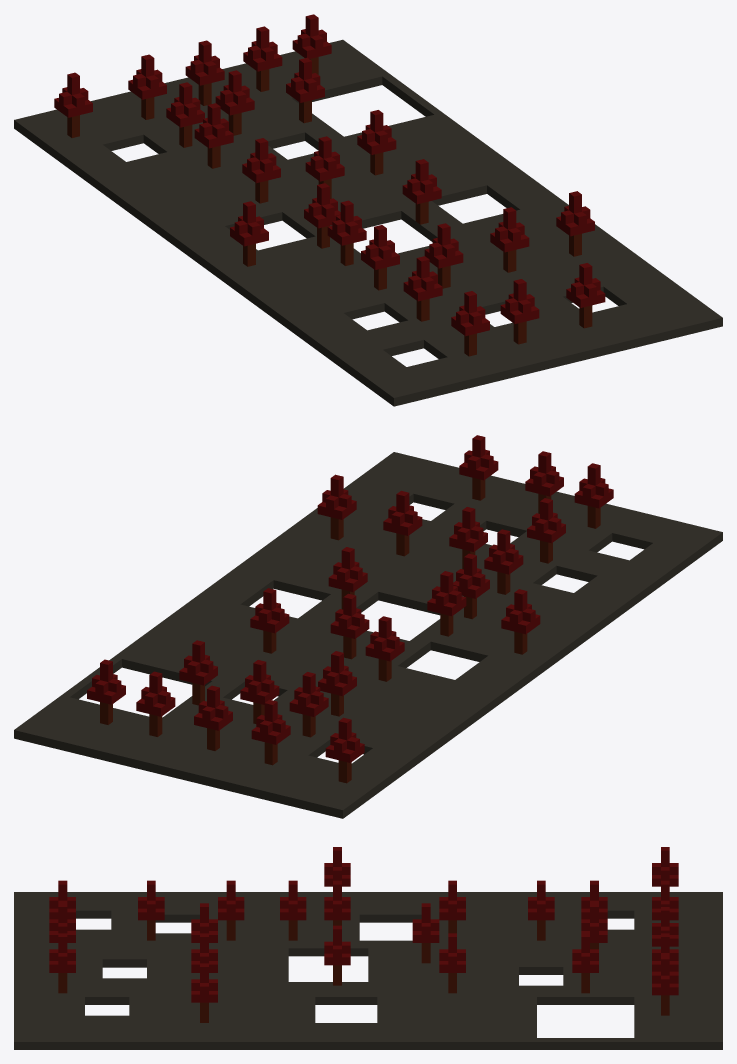
Rendered from spike.obj.
3 views of the same model, one above another, from view 1: azimuth 30°, elevation 25°; view 2: azimuth 150°, elevation 25°; view 3: azimuth 270°, elevation 25° (orthographic). The views are drawn at different scales.
Bounding box in the file's own units: 4 × 0.8 × 8.
Materials: 1 (1 with a texture image).
